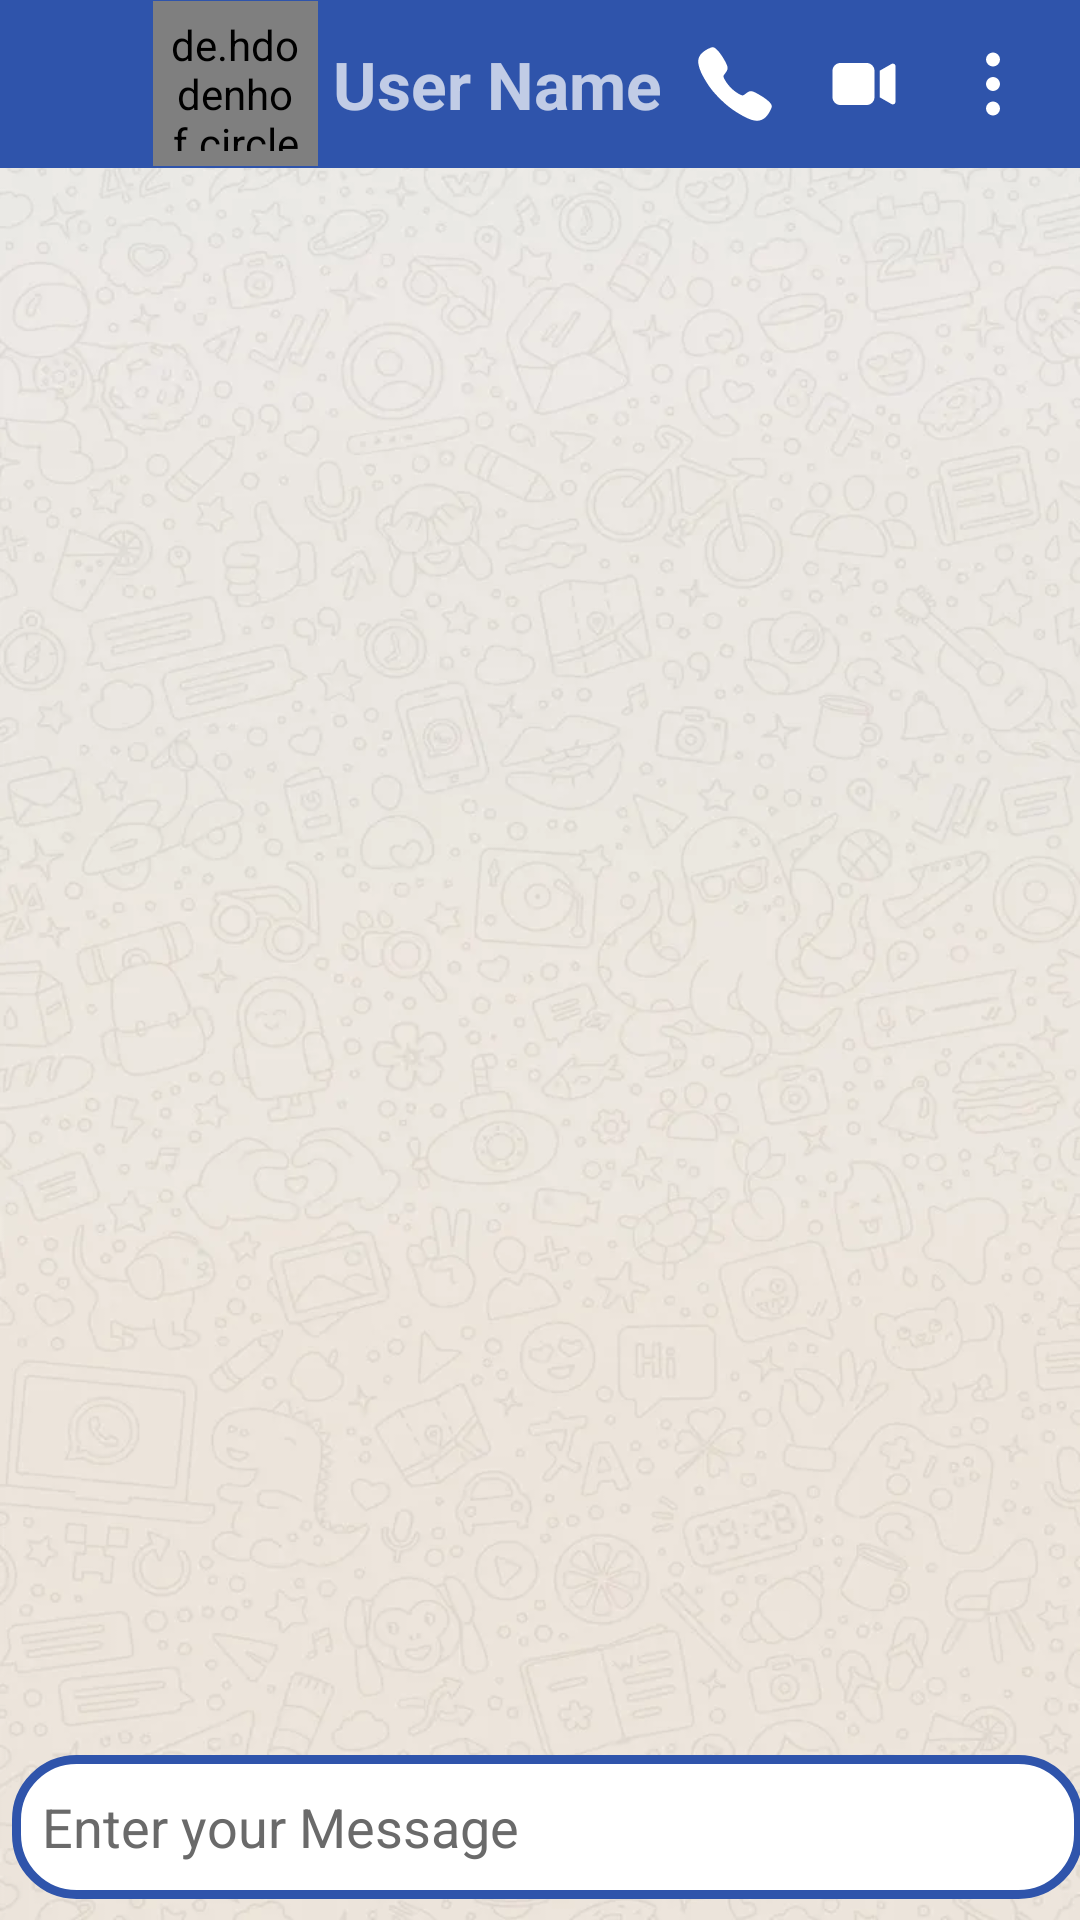

Icons on this 1080w x 1920h Android screen, each with its box as (x1, y1, x2, y2):
call: (698, 47, 772, 121)
menu: (986, 52, 1000, 116)
video camera: (832, 63, 896, 105)
